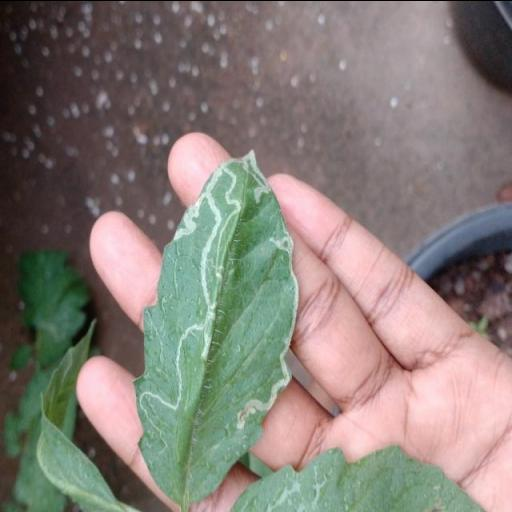disease_tomato: (130, 144, 302, 506)
